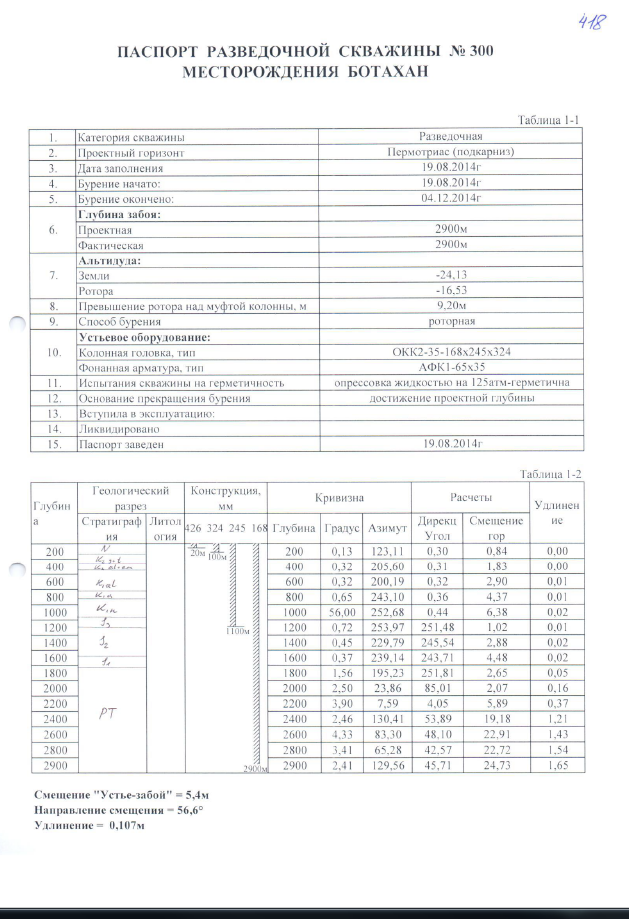Bordered: (28, 128, 585, 453), (28, 485, 586, 771)
